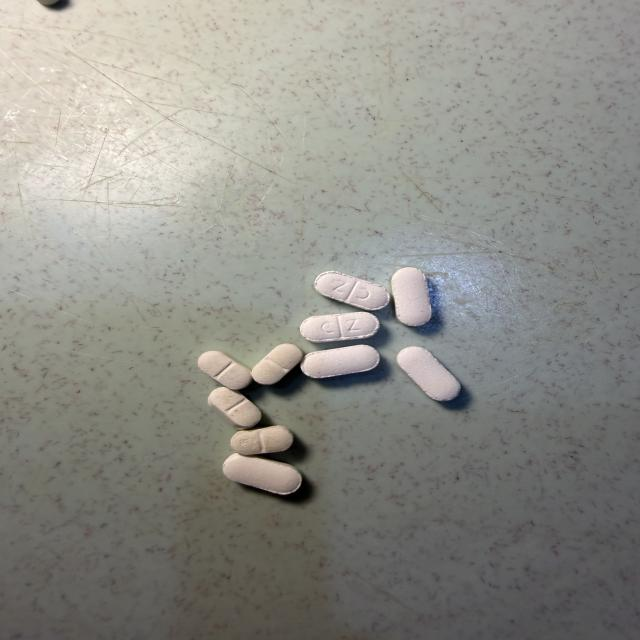pill: (397, 347, 460, 401), (223, 453, 302, 494), (315, 271, 390, 310), (301, 345, 379, 378), (300, 312, 379, 342), (392, 268, 431, 326), (208, 387, 261, 429), (198, 351, 252, 389), (252, 344, 303, 384), (231, 426, 293, 455)
